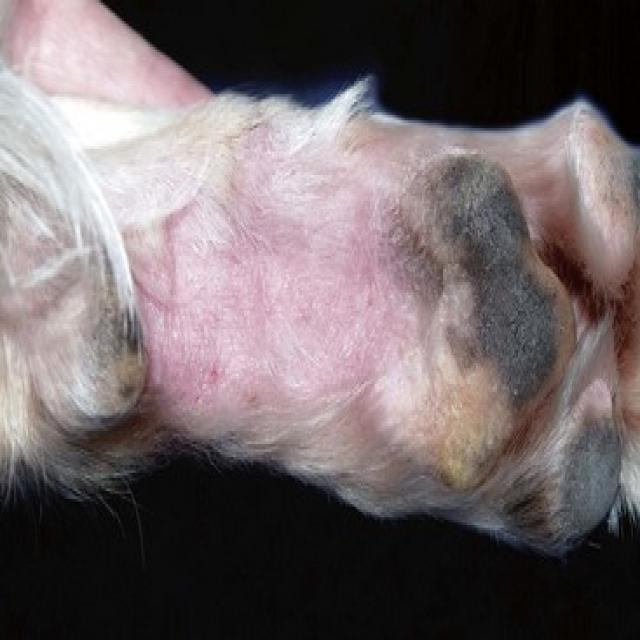allergic dermatitis: (120, 142, 437, 436)
